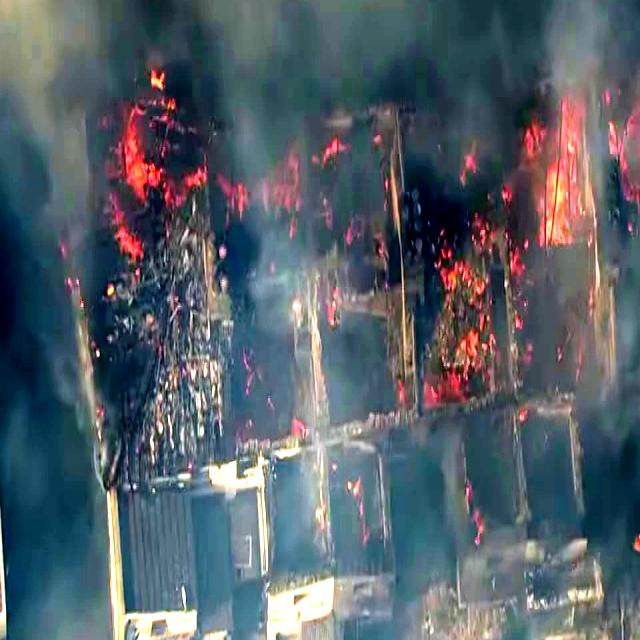fire: (516, 143, 590, 292), (104, 134, 171, 219)
